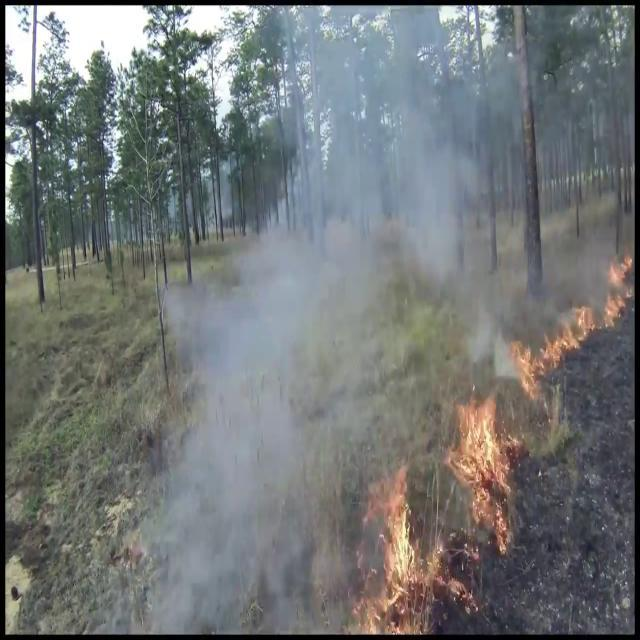Fire: (349, 461, 446, 634), (447, 387, 516, 549), (507, 298, 601, 392), (602, 244, 632, 328)
Smoke: (138, 165, 386, 635), (282, 12, 562, 410)
